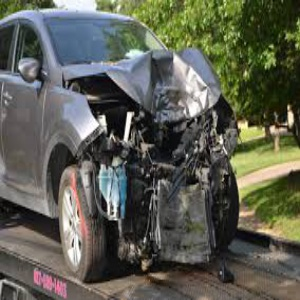bonnet: (104, 45, 227, 120)
bumper: (113, 155, 229, 254)
